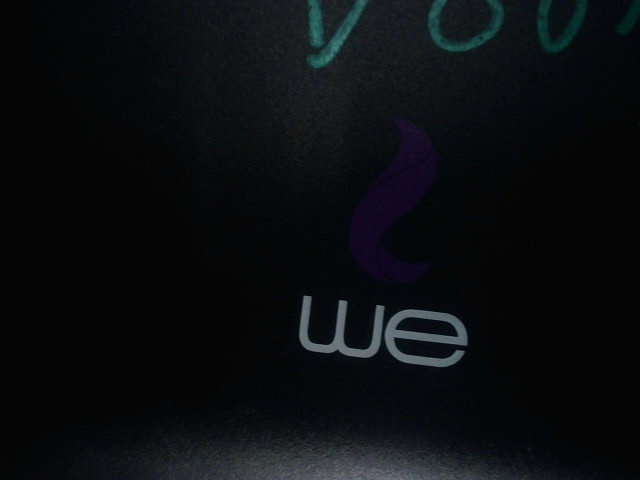AT_We: (296, 101, 475, 373)
